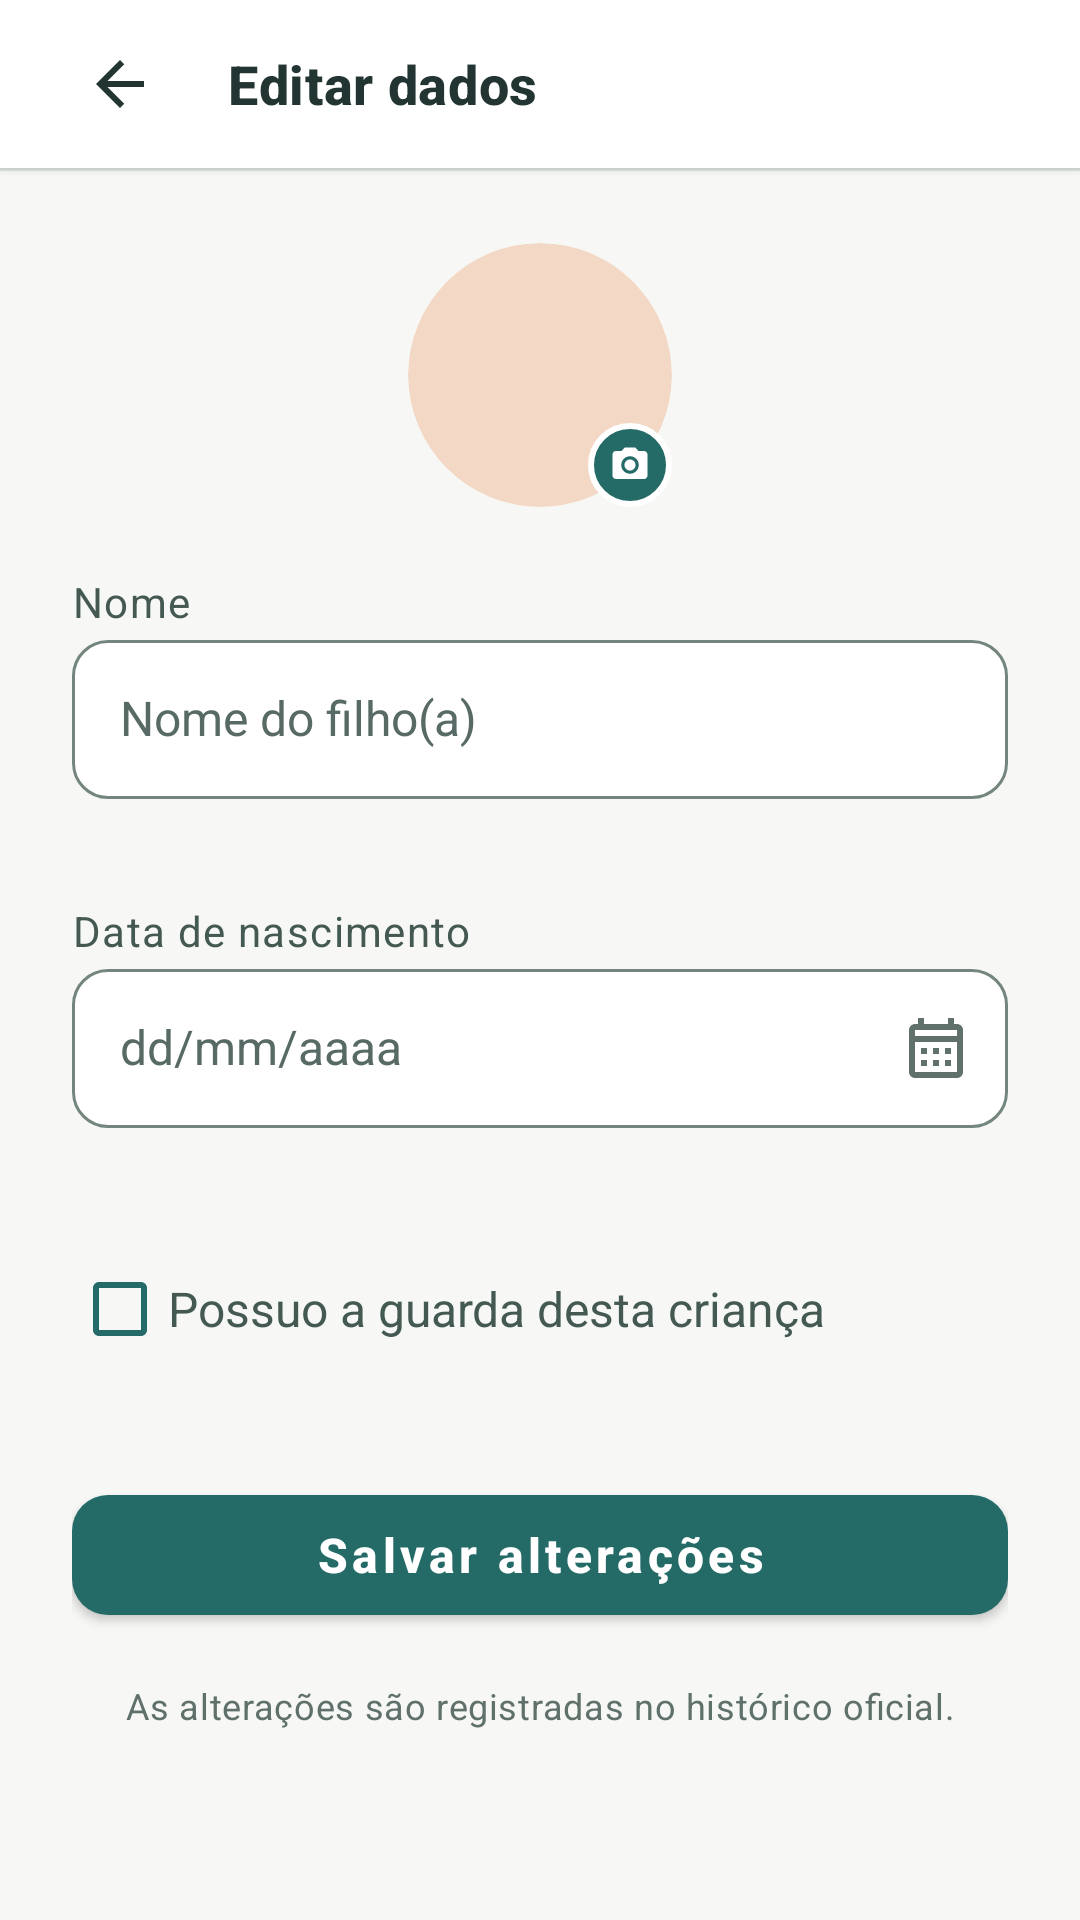

Icon click points for this 1080 x 1920 phone screenshot, format [x,y]:
camera: [630,463]
Voltar: [120,84]
